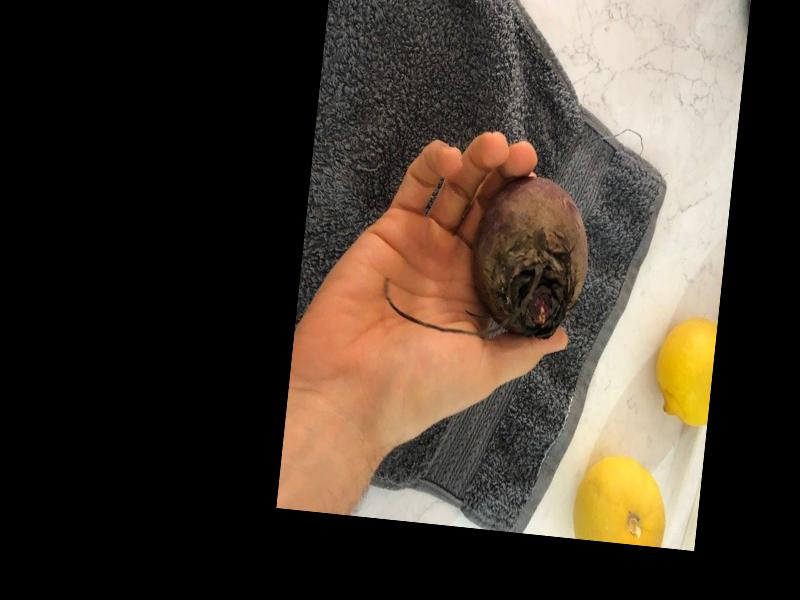Beet: (381, 160, 596, 341)
